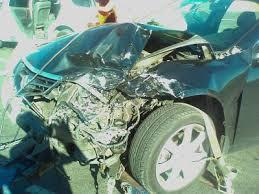Bonnet: (21, 23, 219, 91)
Bumper: (8, 96, 142, 163)
Fender: (118, 45, 249, 99)
Light: (90, 90, 136, 114)
